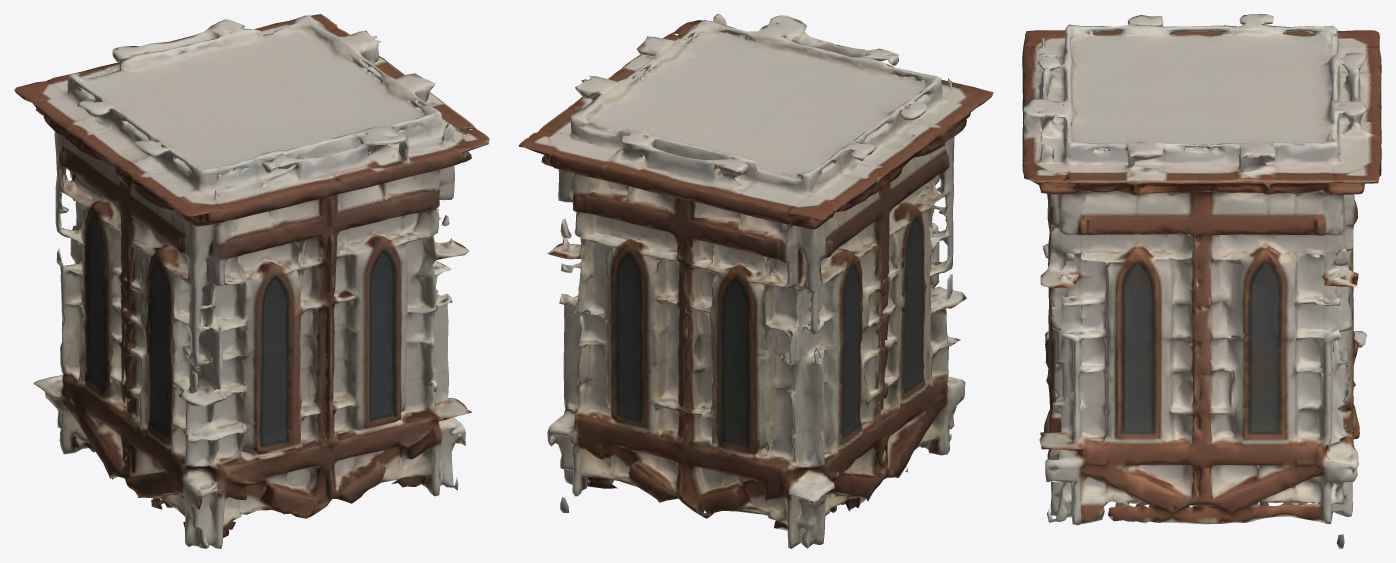
Rendered from 롯데_성본체.glb.
3 views of the same model, side by side, from view 1: azimuth 30°, elevation 25°; view 2: azimuth 150°, elevation 25°; view 3: azimuth 270°, elevation 25° (orthographic).
Visible parts, largest first — view 1: texture_mapping; view 2: texture_mapping; view 3: texture_mapping.
Boxes of the visible parts, bbox=[...] form: texture_mapping: bbox=[14, 14, 489, 548]; texture_mapping: bbox=[518, 14, 993, 548]; texture_mapping: bbox=[1022, 14, 1381, 548].
Size of the model in its own units: 0.8068 by 0.987 by 0.7913.
Materials: 1 (1 with a texture image).
